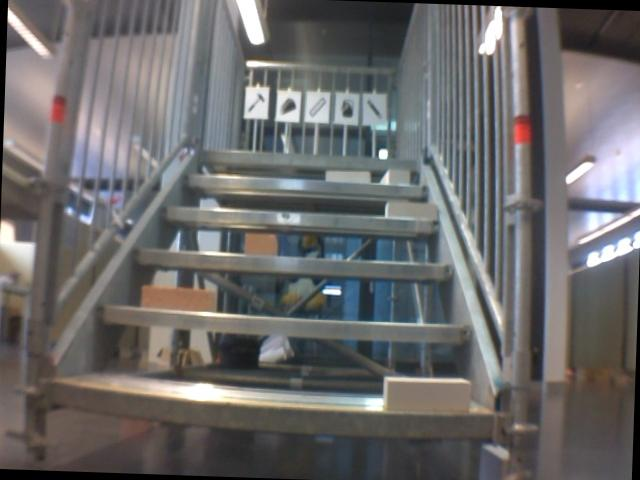brick: (381, 377, 471, 413), (140, 285, 216, 310), (384, 201, 436, 219), (245, 233, 278, 254), (326, 170, 369, 182), (381, 170, 410, 184)
bucket: (336, 97, 356, 120)
edge: (53, 380, 494, 441), (97, 306, 468, 342), (129, 249, 453, 279), (159, 205, 440, 232), (181, 173, 430, 196), (199, 148, 420, 170)
hammer: (245, 89, 266, 117)
pencil: (363, 97, 386, 121)
ruler: (307, 95, 327, 120)
steps: (52, 140, 511, 447)
taco: (277, 94, 298, 119)
